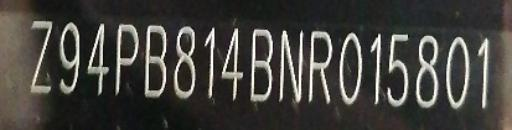letter: (242, 23, 280, 105), (302, 27, 338, 107), (274, 23, 308, 107), (24, 13, 58, 96), (382, 28, 416, 110), (110, 18, 144, 98), (334, 28, 368, 108), (169, 17, 201, 101), (53, 15, 85, 98), (140, 18, 172, 100), (217, 21, 249, 103), (412, 28, 444, 110), (442, 31, 474, 109), (83, 16, 113, 96), (196, 21, 224, 103), (363, 26, 389, 108), (473, 30, 497, 112)
